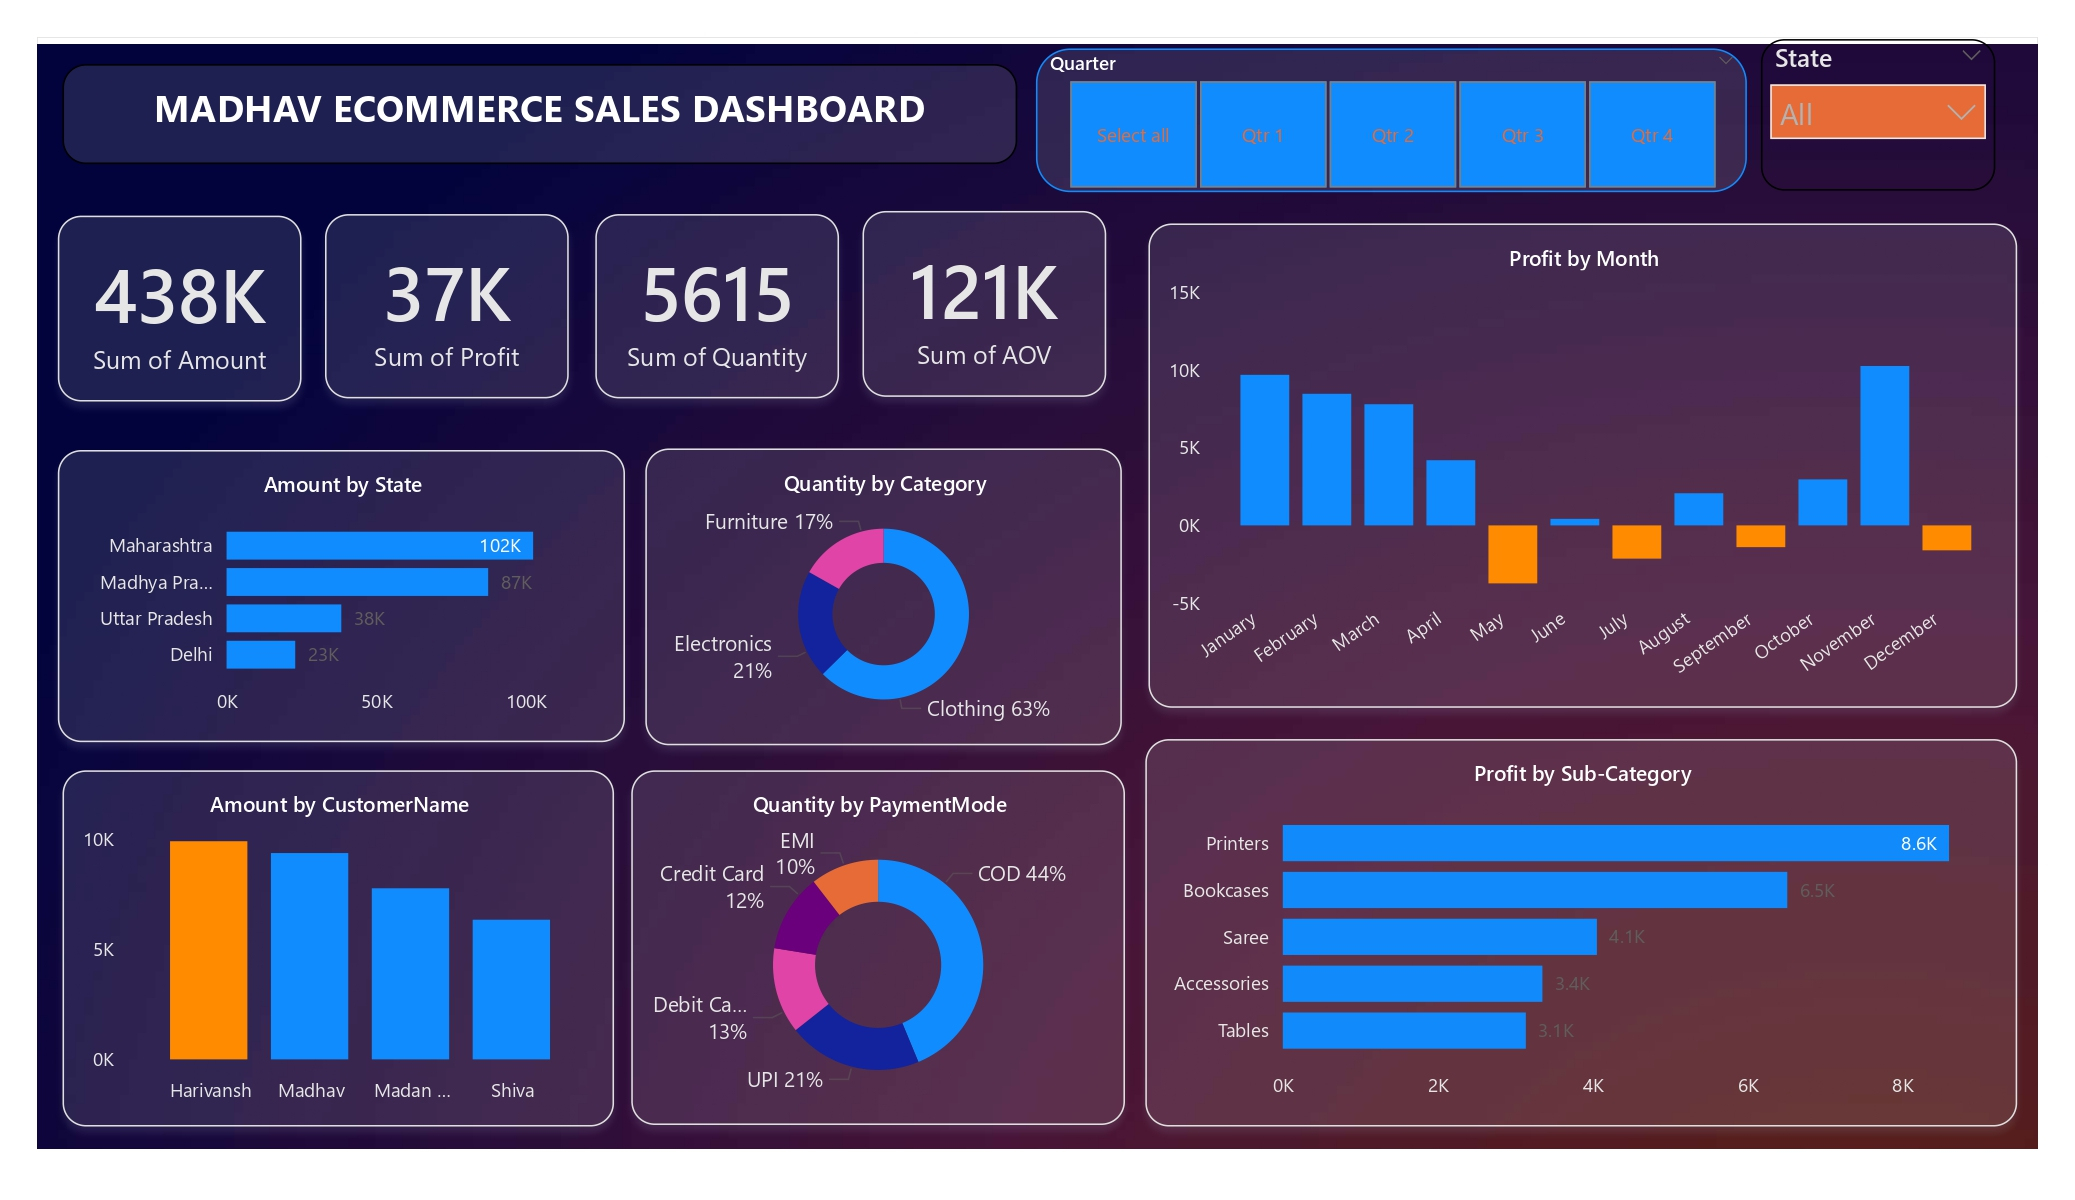

The dashboard page shown, as its layout file describes it:
{"tool":"powerbi","page":{"name":"Page 1","canvas":[1280,720],"ordinal":0},"visuals":[{"type":"textbox","box":[15.7,17.1,611.4,64.3],"z":0},{"type":"columnChart","title":" Profit by Month","fields":{"Category":["Orders (1).Order Date.Variation.Date Hierarchy.Month"],"Y":["Details.Profit"]},"box":[711.4,118.6,555.7,310],"z":1000},{"type":"barChart","title":" Profit by Sub-Category","fields":{"Category":["Details.Sub-Category"],"Y":["Details.Profit"]},"box":[708.6,448.6,558.6,248.6],"z":2000},{"type":"donutChart","title":"Quantity by Category","fields":{"Category":["Details.Category"],"Y":["Details.Quantity"]},"box":[388.6,262.9,305.7,190],"z":3000},{"type":"donutChart","title":"Quantity by PaymentMode","fields":{"Y":["Details.Quantity"],"Category":["Details.PaymentMode"]},"box":[380,468.6,315.7,227.1],"z":4000},{"type":"card","fields":{"Values":["Details.Amount"]},"box":[12.9,114.3,155.7,118.6],"z":5000},{"type":"card","fields":{"Values":["Details.Profit"]},"box":[184.3,112.9,155.7,118.6],"z":6000},{"type":"card","fields":{"Values":["Details.AOV"]},"box":[528.3,111.2,155.8,119],"z":7000},{"type":"card","fields":{"Values":["Details.Quantity"]},"box":[357.1,112.9,155.7,118.6],"z":8000},{"type":"barChart","title":"Amount by State","fields":{"Category":["Orders (1).State"],"Y":["Details.Amount"]},"box":[12.9,264.3,362.9,187.1],"z":9000},{"type":"columnChart","title":"Amount by CustomerName","fields":{"Category":["Orders (1).CustomerName"],"Y":["Details.Amount"]},"box":[15.7,468.6,352.9,228.6],"z":10000},{"type":"slicer","fields":{"Values":["Orders (1).Order Date.Variation.Date Hierarchy.Quarter"]},"box":[638.6,7.1,455.7,91.4],"z":11000},{"type":"slicer","fields":{"Values":["Orders (1).State"]},"box":[1103.1,1.2,149.7,96.9],"z":12000}]}

Visuals, with their boxes on the page's 1280x720 design canvas (x1, y1, x2, y2). These are canvas units, not pixel positions in the 2075x1200 screenshot, which may show the page scaled, cropped or inside an application window:
textbox: 16, 17, 627, 81
" Profit by Month" columnChart: 711, 119, 1267, 429
" Profit by Sub-Category" barChart: 709, 449, 1267, 697
"Quantity by Category" donutChart: 389, 263, 694, 453
"Quantity by PaymentMode" donutChart: 380, 469, 696, 696
card - Details.Amount: 13, 114, 169, 233
card - Details.Profit: 184, 113, 340, 232
card - Details.AOV: 528, 111, 684, 230
card - Details.Quantity: 357, 113, 513, 232
"Amount by State" barChart: 13, 264, 376, 451
"Amount by CustomerName" columnChart: 16, 469, 369, 697
slicer - Orders (1).Order Date.Variation.Date Hierarchy.Quarter: 639, 7, 1094, 98
slicer - Orders (1).State: 1103, 1, 1253, 98
